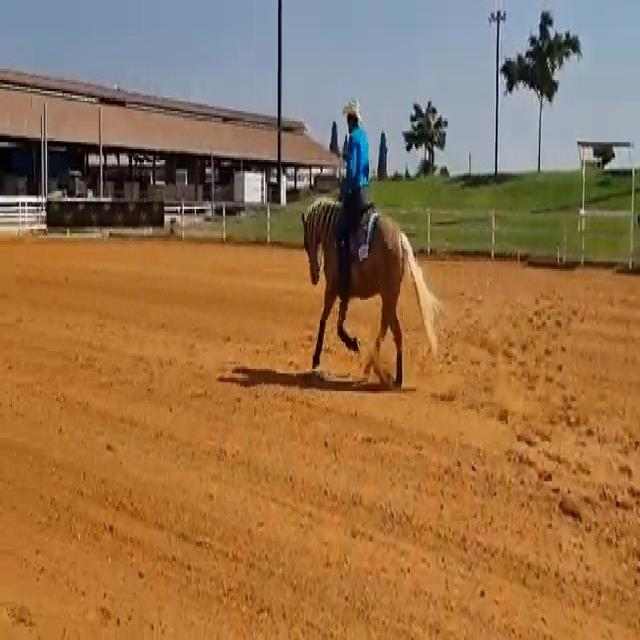horse: (298, 193, 443, 391)
